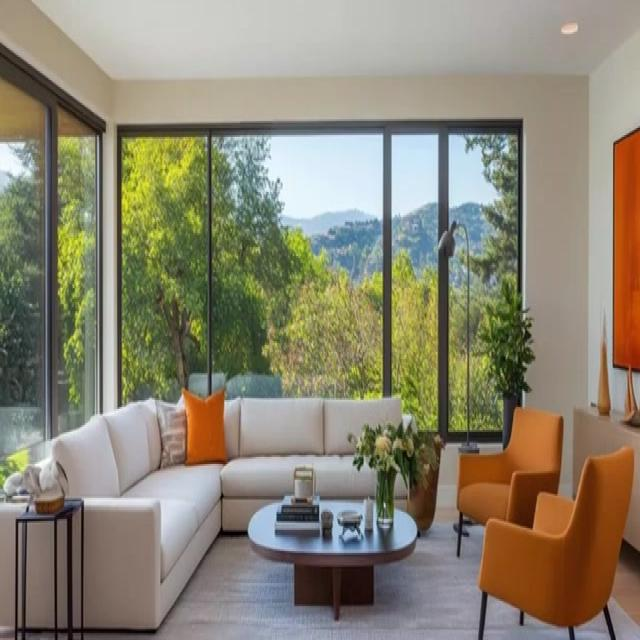obstacle: (23, 391, 418, 631), (476, 444, 634, 638), (247, 494, 417, 619), (456, 409, 562, 558), (572, 404, 639, 567), (13, 496, 84, 638)
